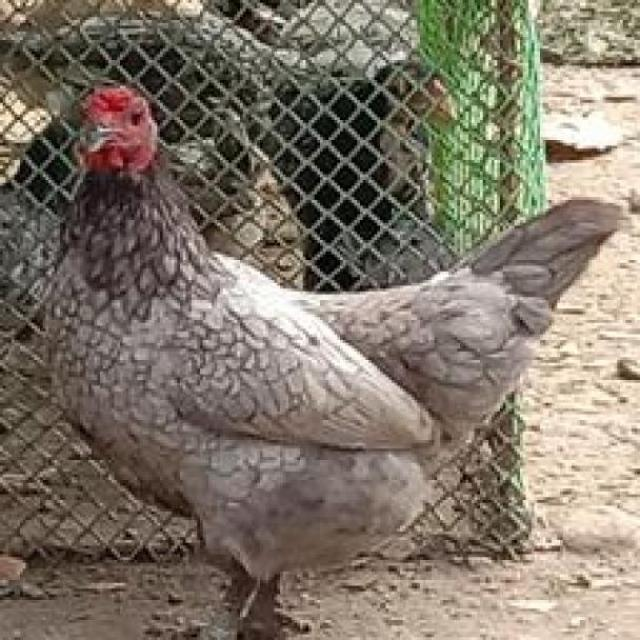Chicken: (42, 67, 613, 640)
